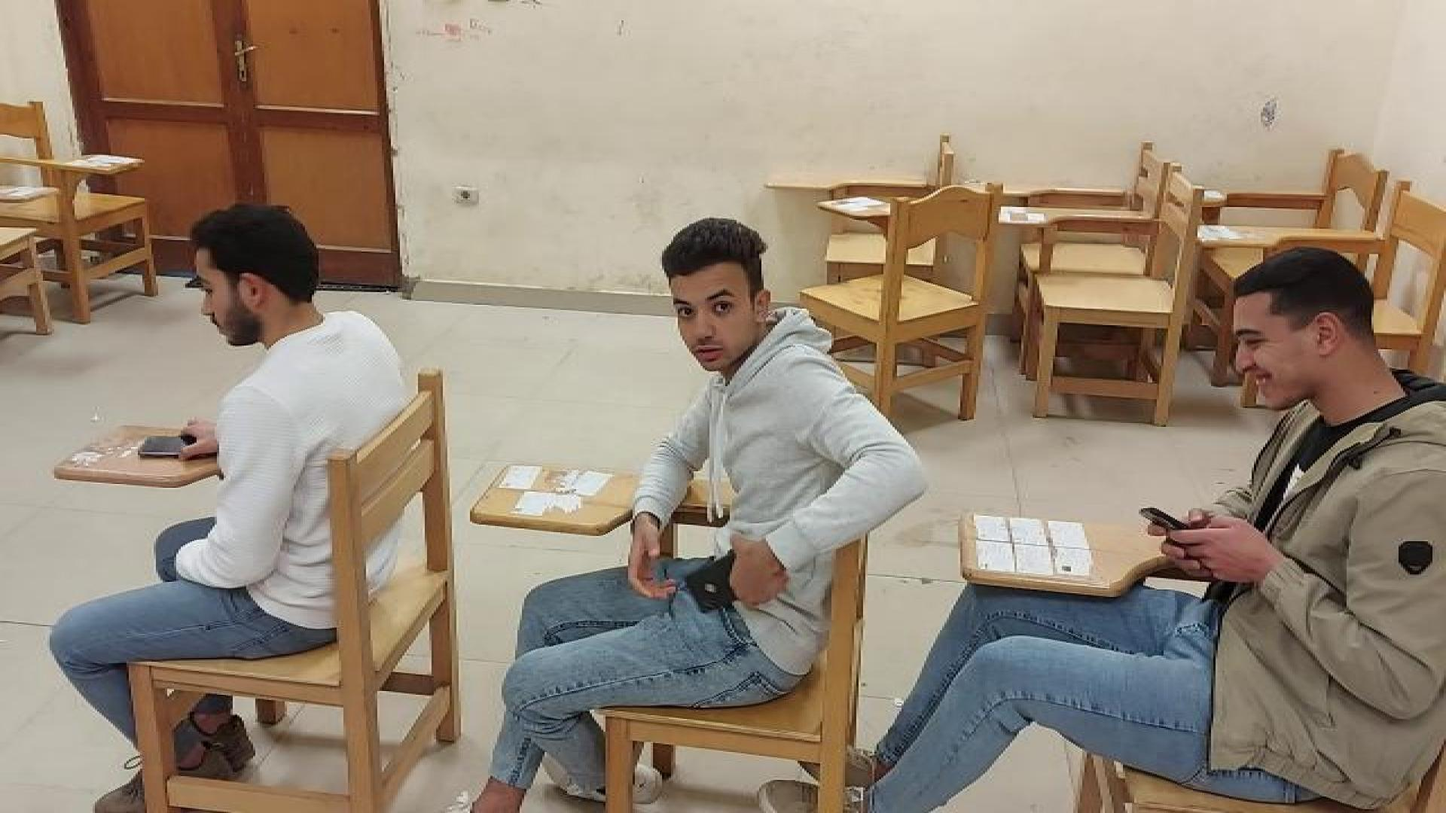phone: (677, 551, 760, 616), (130, 432, 216, 467), (1140, 497, 1196, 549)
